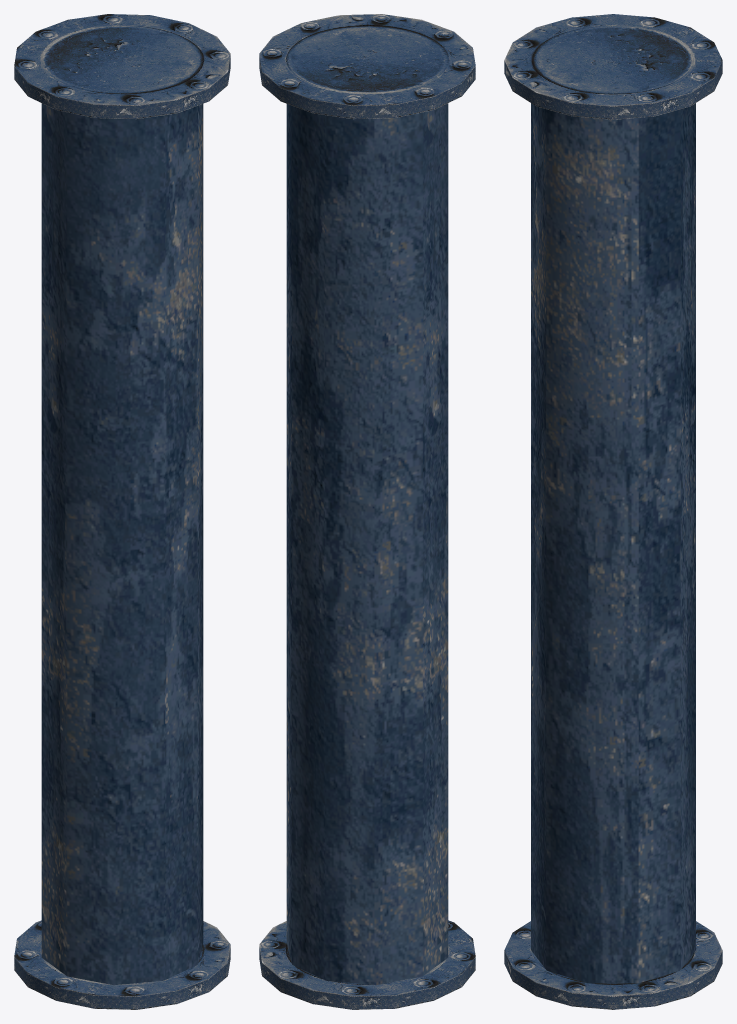
Rendered from 3m_blue.DAE.
3 views of the same model, side by side, from view 1: azimuth 30°, elevation 25°; view 2: azimuth 150°, elevation 25°; view 3: azimuth 270°, elevation 25° (orthographic).
Visible parts, largest first — view 1: Object335, Object378; view 2: Object335, Object378; view 3: Object335, Object378.
Boxes of the visible parts, bbox=[...] form: Object335: bbox=[41, 103, 203, 985]; Object378: bbox=[14, 14, 230, 1009]; Object335: bbox=[286, 103, 448, 985]; Object378: bbox=[259, 14, 475, 1009]; Object335: bbox=[531, 103, 695, 983]; Object378: bbox=[504, 14, 722, 1009].
Size of the model in its own units: 0.6566 by 0.6566 by 3.
